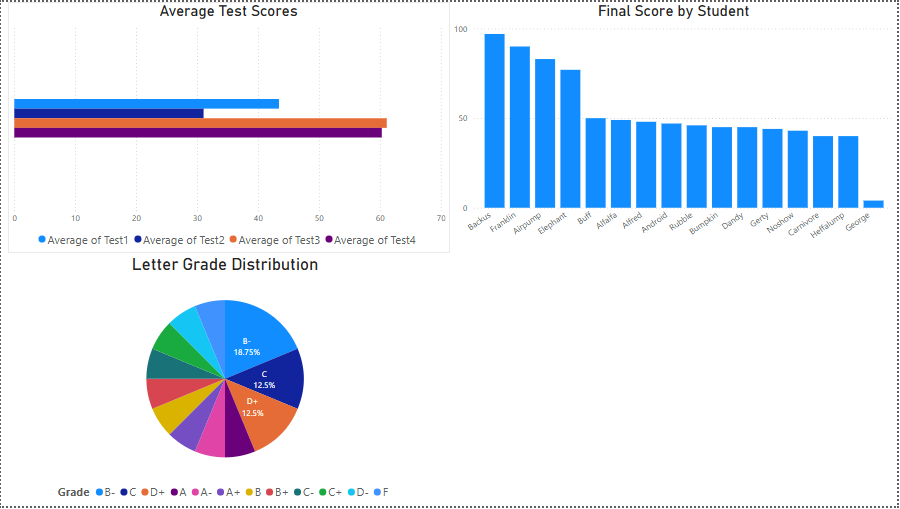

What the dashboard file says about the page in this screenshot:
{"tool":"powerbi","page":{"name":"Basic Visuals","canvas":[1280,720],"ordinal":3},"visuals":[{"type":"clusteredBarChart","title":"Chart 1.2: Average Test Scores","fields":{"Y":["Avg(grades.Test1)","Avg(grades.Test2)","Avg(grades.Test3)","Avg(grades.Test4)"]},"box":[10.6,0,630.3,359.2],"z":0},{"type":"clusteredColumnChart","title":"Chart 2.2: Final Score by Student","fields":{"Y":["Sum(grades.Final)"],"Category":["grades.Last name"]},"box":[640.9,0,639.1,360.9],"z":1000},{"type":"pieChart","title":"Chart 3.2: Letter Grade Distribution","fields":{"Category":["grades.Grade"],"Y":["CountNonNull(grades.Grade)"]},"box":[0,361.4,640,358.6],"z":2000}]}

Visuals, with their boxes in screenshot pixels (x1, y1, x2, y2), scaled from the page's 1280x720 canvas onto the 900x509 screenshot:
"Chart 1.2: Average Test Scores" clusteredBarChart: left=7, top=0, right=451, bottom=254
"Chart 2.2: Final Score by Student" clusteredColumnChart: left=451, top=0, right=899, bottom=255
"Chart 3.2: Letter Grade Distribution" pieChart: left=0, top=255, right=450, bottom=508
